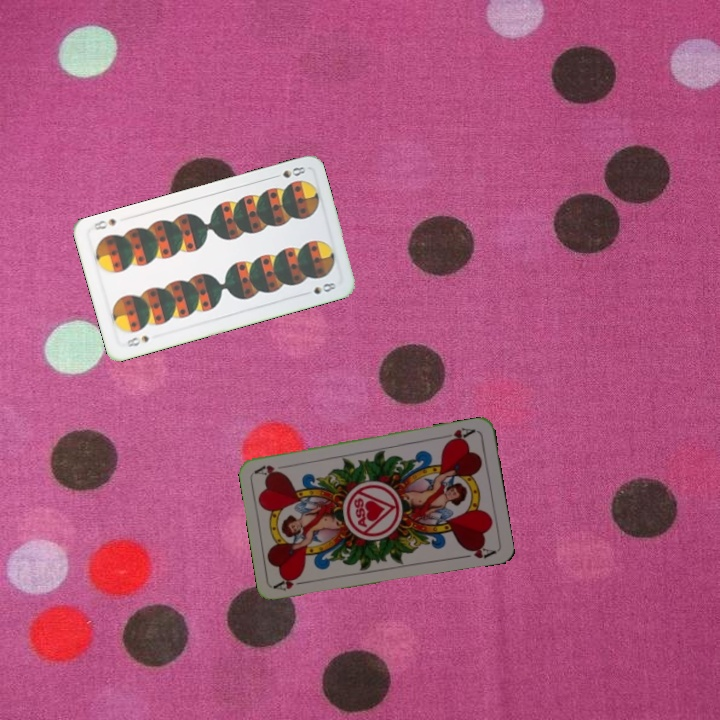HA: (271, 571, 312, 593), (438, 424, 478, 445)
S8: (268, 162, 308, 181), (123, 331, 151, 349)
